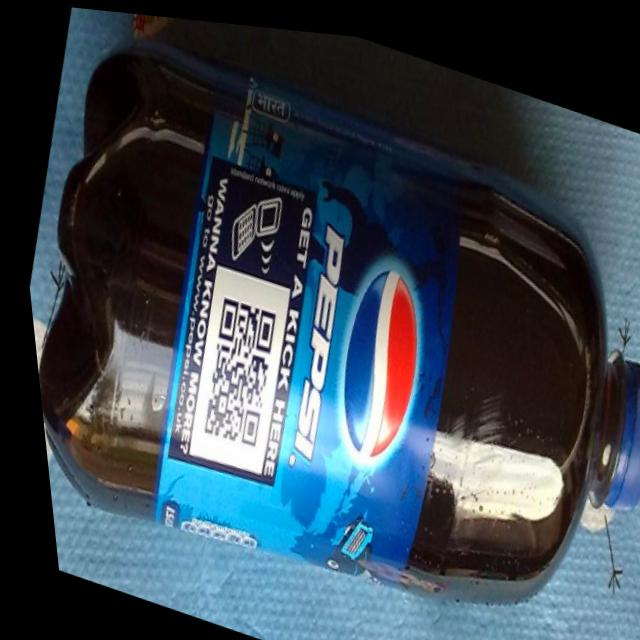qrcode: (184, 291, 280, 446)
